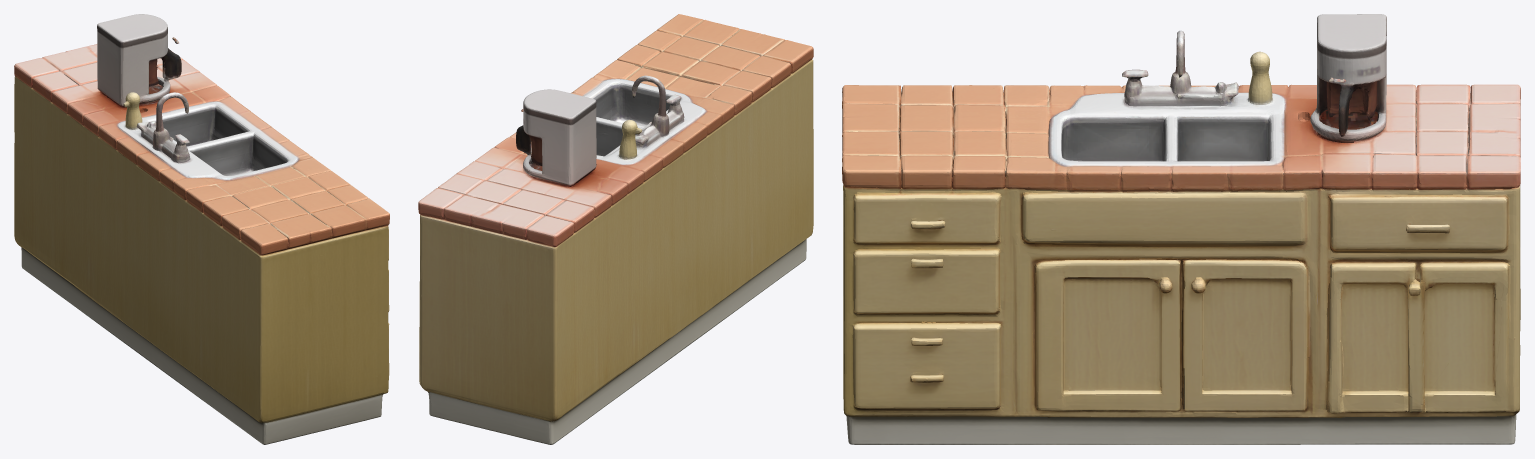
Rendered from lower_counter.glb.
3 renders of one model, left to right at view 1: azimuth 30°, elevation 25°; view 2: azimuth 150°, elevation 25°; view 3: azimuth 270°, elevation 25°, orthographic. The views are drawn at different scales.
Parts seen in each view (by area): view 1: geometry_0; view 2: geometry_0; view 3: geometry_0.
Part boxes in pixels (x1,y1,x2,y2): geometry_0: [14, 14, 389, 444]; geometry_0: [418, 14, 813, 444]; geometry_0: [842, 14, 1520, 444].
Bounding box in the file's own units: 0.3385 × 0.6024 × 0.9964.
1 material, 1 textured.
